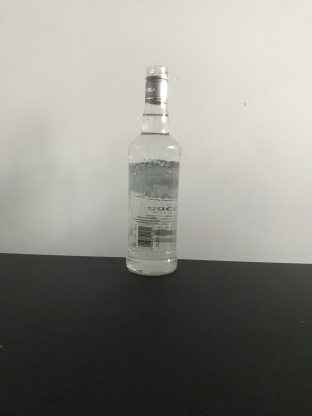nakretka: (143, 62, 170, 105)
